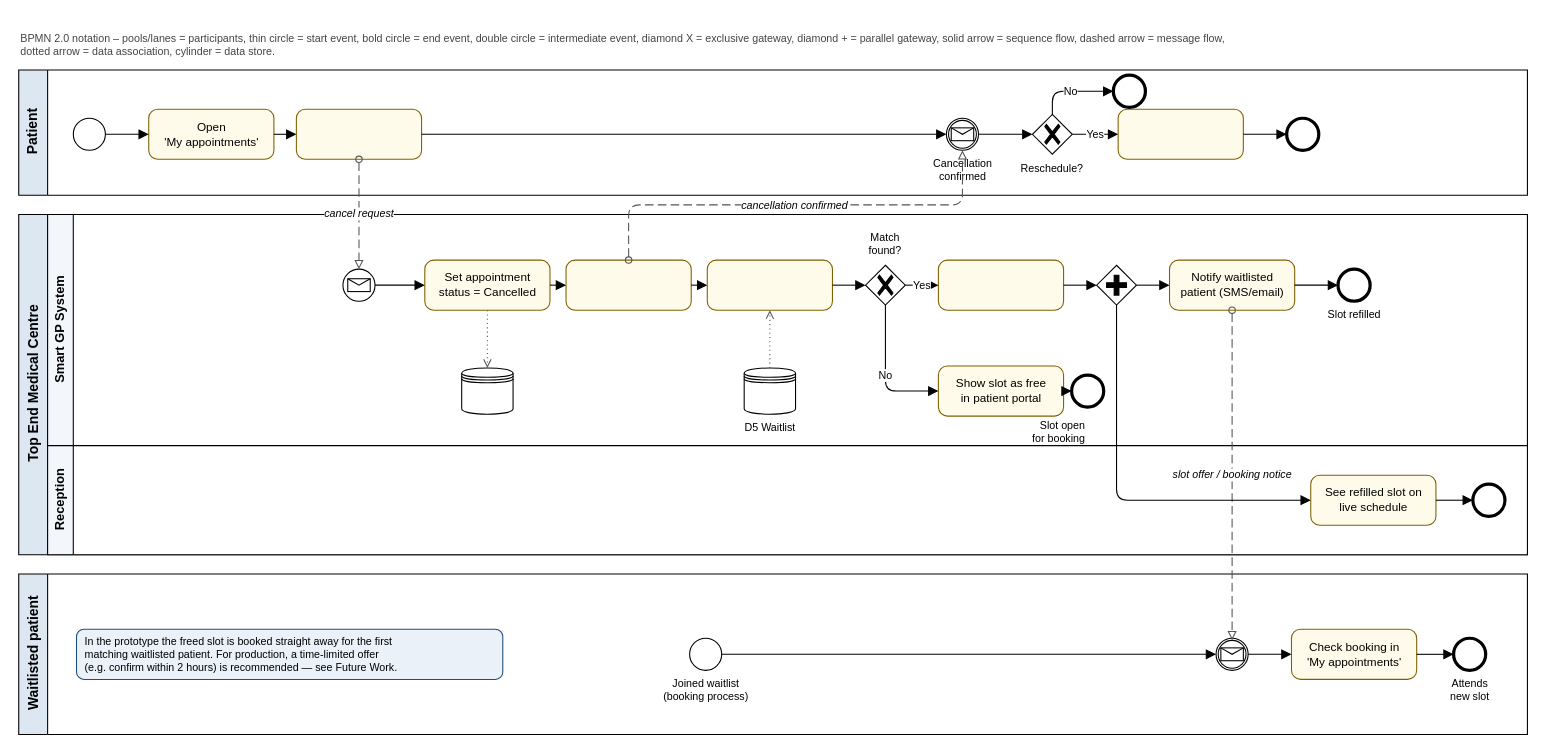
Image size: 1546x753. Some labels were removed from this diagram. Here are the shapes that lost their labels. From the top down, the centre of each, then its label:
At (x=88, y=133): "Cannot attend".
At (x=358, y=133): "Cancel or reschedule booking".
At (x=1180, y=133): "Book a new slot (booking process)".
At (x=358, y=284): "Cancellation received".
At (x=628, y=284): "Release slot to booking pool".
At (x=769, y=284): "Search waitlist for matching reason".
At (x=1000, y=284): "Book freed slot for next match".
At (x=487, y=390): "D1 Appointments".
At (x=1231, y=653): "Offer received".
